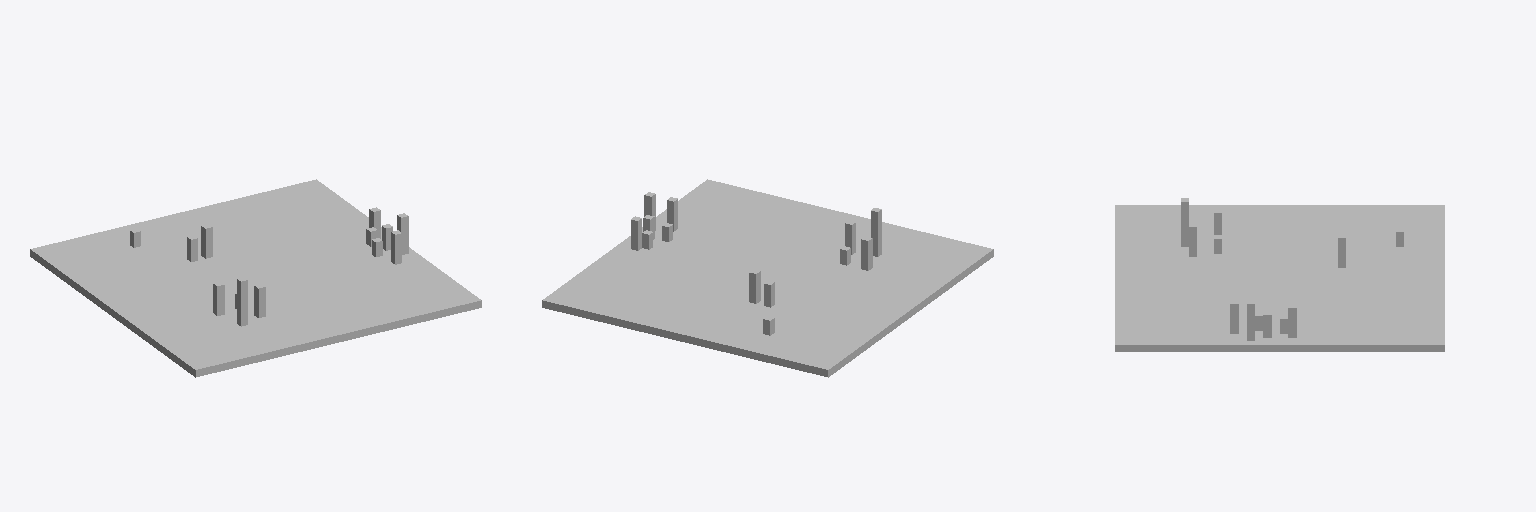
Rendered from grass4.obj.
3 views of the same model, side by side, from view 1: azimuth 30°, elevation 25°; view 2: azimuth 150°, elevation 25°; view 3: azimuth 270°, elevation 25° (orthographic).
Parts seen in each view (by area): view 1: object 1; view 2: object 1; view 3: object 1.
Boxes of the visible parts, x1,y1,x2,y2 form: object 1: [30, 179, 481, 377]; object 1: [542, 179, 993, 377]; object 1: [1115, 198, 1444, 351].
Size of the model in its own units: 4 by 0.7 by 4.